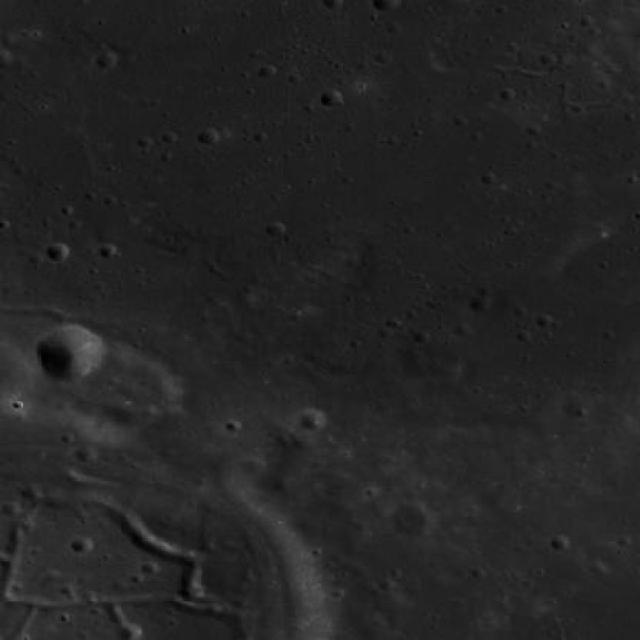crater: (70, 346, 178, 431), (394, 324, 466, 381), (36, 327, 106, 381), (0, 338, 38, 396), (390, 502, 432, 535), (323, 344, 362, 374), (560, 394, 594, 418), (239, 453, 267, 475), (298, 408, 326, 430), (69, 534, 94, 554), (116, 621, 141, 640), (16, 480, 41, 498), (46, 244, 69, 262), (320, 88, 343, 106), (76, 442, 98, 460), (472, 294, 494, 312), (95, 51, 118, 68), (264, 219, 286, 236), (450, 320, 472, 337), (198, 126, 219, 142), (373, 0, 398, 11), (0, 48, 14, 66), (322, 0, 344, 9), (0, 0, 2, 2)
